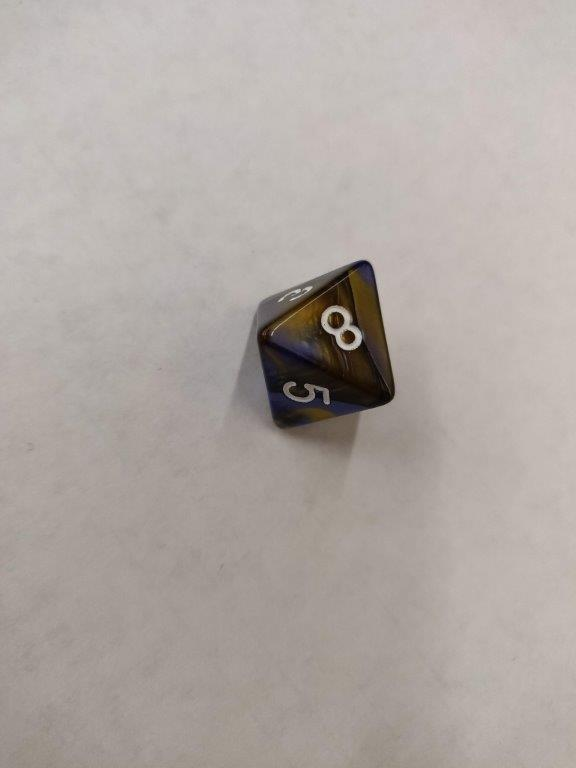d8-8: (254, 258, 397, 432)
